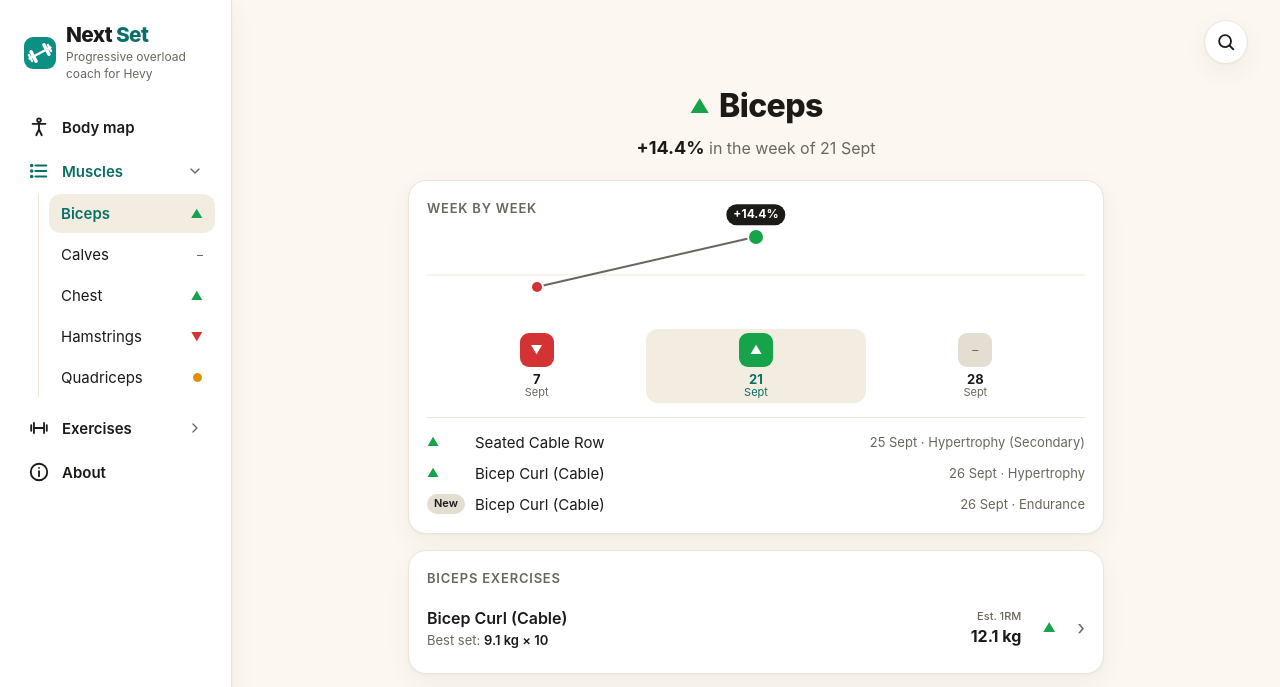
Scenario: muscle page › dates every week, opens on the latest judged week, and lets you pick another
The width and height of the screenshot is (1280, 687).
expect the radio button with aria-label "28 Sept: Not enough data yet" shows "28 Sept": met, box [866,329,1085,403]
Click the radio button labelled "▼ 7 Sept" at (537, 366), box [427,329,646,403]
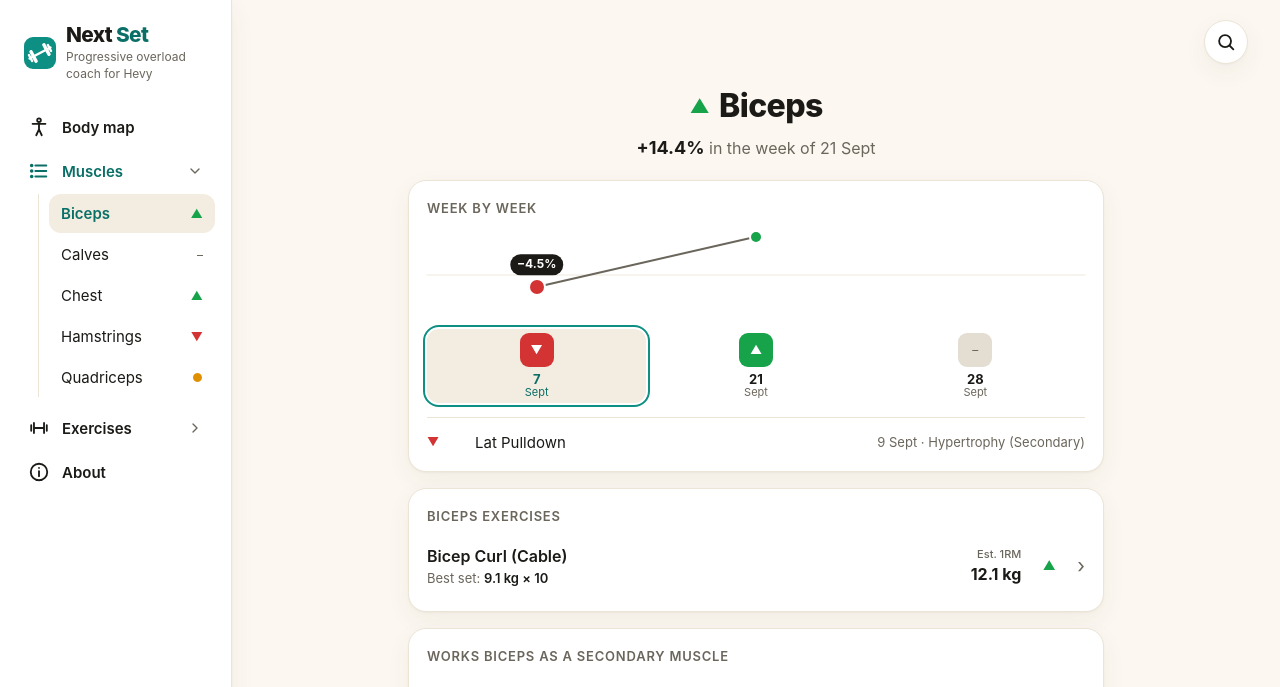
expect the list named "week of 7 Sept" shows "Lat Pulldown": met, box [475,432,869,453]
